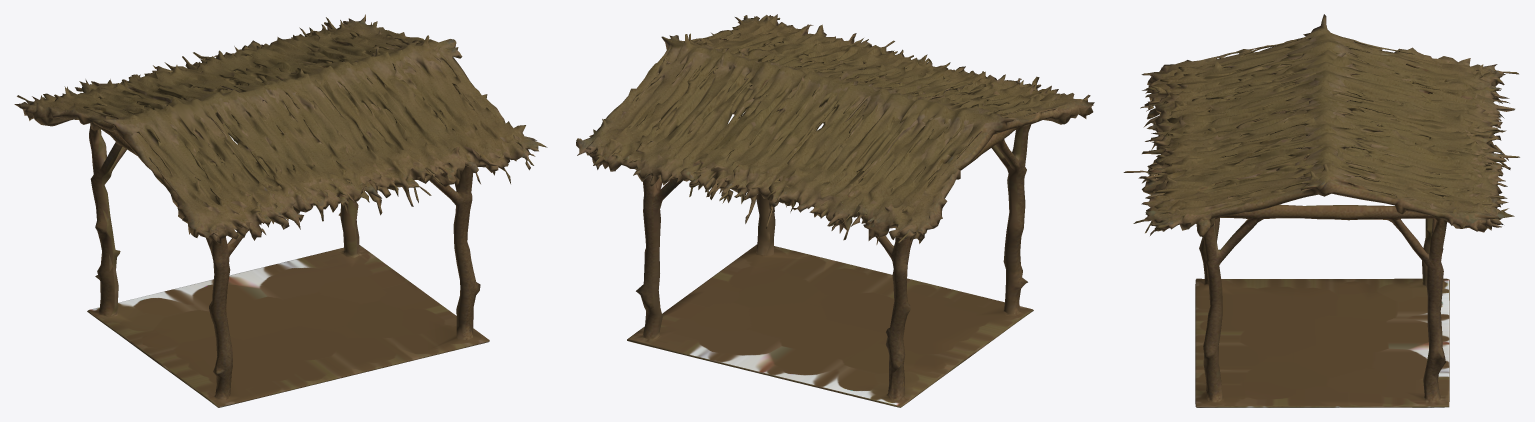
The model's file is enramada.glb.
3 views of the same model, side by side, from view 1: azimuth 30°, elevation 25°; view 2: azimuth 150°, elevation 25°; view 3: azimuth 270°, elevation 25° (orthographic). The views are drawn at different scales.
Parts seen in each view (by area): view 1: temp_mesh.ply; view 2: temp_mesh.ply; view 3: temp_mesh.ply.
Boxes of the visible parts, x1,y1,x2,y2 form: temp_mesh.ply: [14, 14, 547, 407]; temp_mesh.ply: [576, 14, 1094, 407]; temp_mesh.ply: [1123, 14, 1519, 407].
Bounding box in the file's own units: 4 × 2.74 × 3.99.
1 material, 1 textured.
